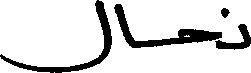X: (0, 0, 109, 72), (177, 24, 220, 53), (115, 0, 132, 52), (239, 19, 250, 53)
